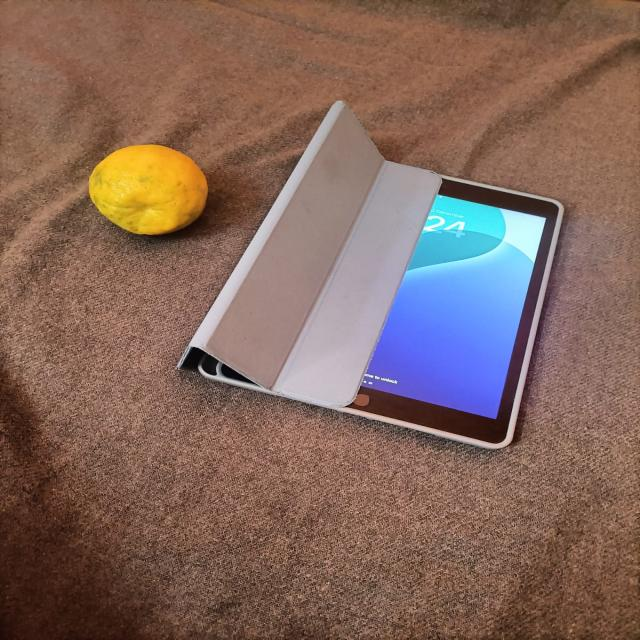orange: (70, 138, 228, 252)
tablet: (170, 94, 574, 475)
